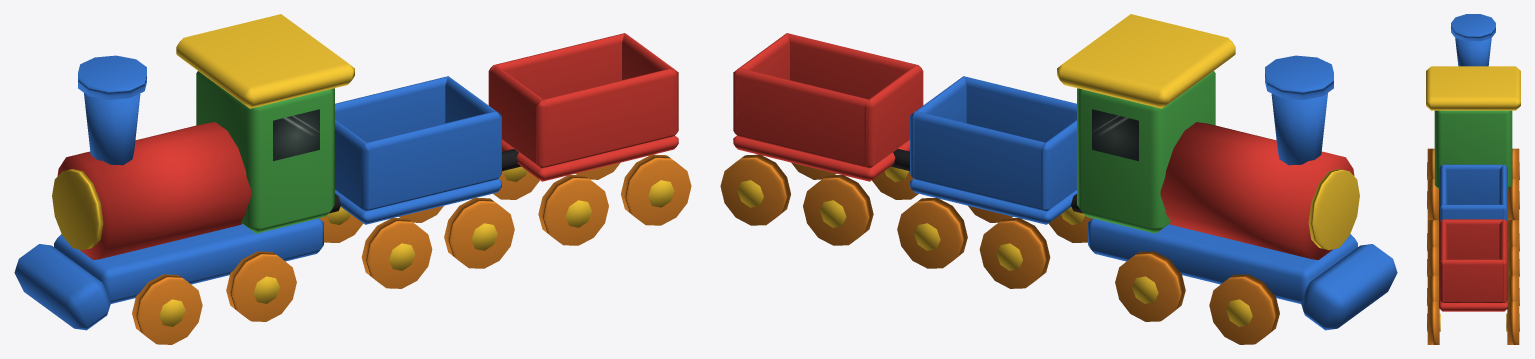
File: toy_train.glb
3 views of the same model, side by side, from view 1: azimuth 30°, elevation 25°; view 2: azimuth 150°, elevation 25°; view 3: azimuth 270°, elevation 25° (orthographic). The views are drawn at different scales.
Parts seen in each view (by area): view 1: model; view 2: model; view 3: model.
Part boxes in pixels (left/top/right/bottom): model: left=14, top=14, right=691, bottom=344; model: left=720, top=14, right=1397, bottom=344; model: left=1426, top=14, right=1520, bottom=344.
Size of the model in its own units: 0.5229 by 0.206 by 0.11.
7 materials, 1 textured.
